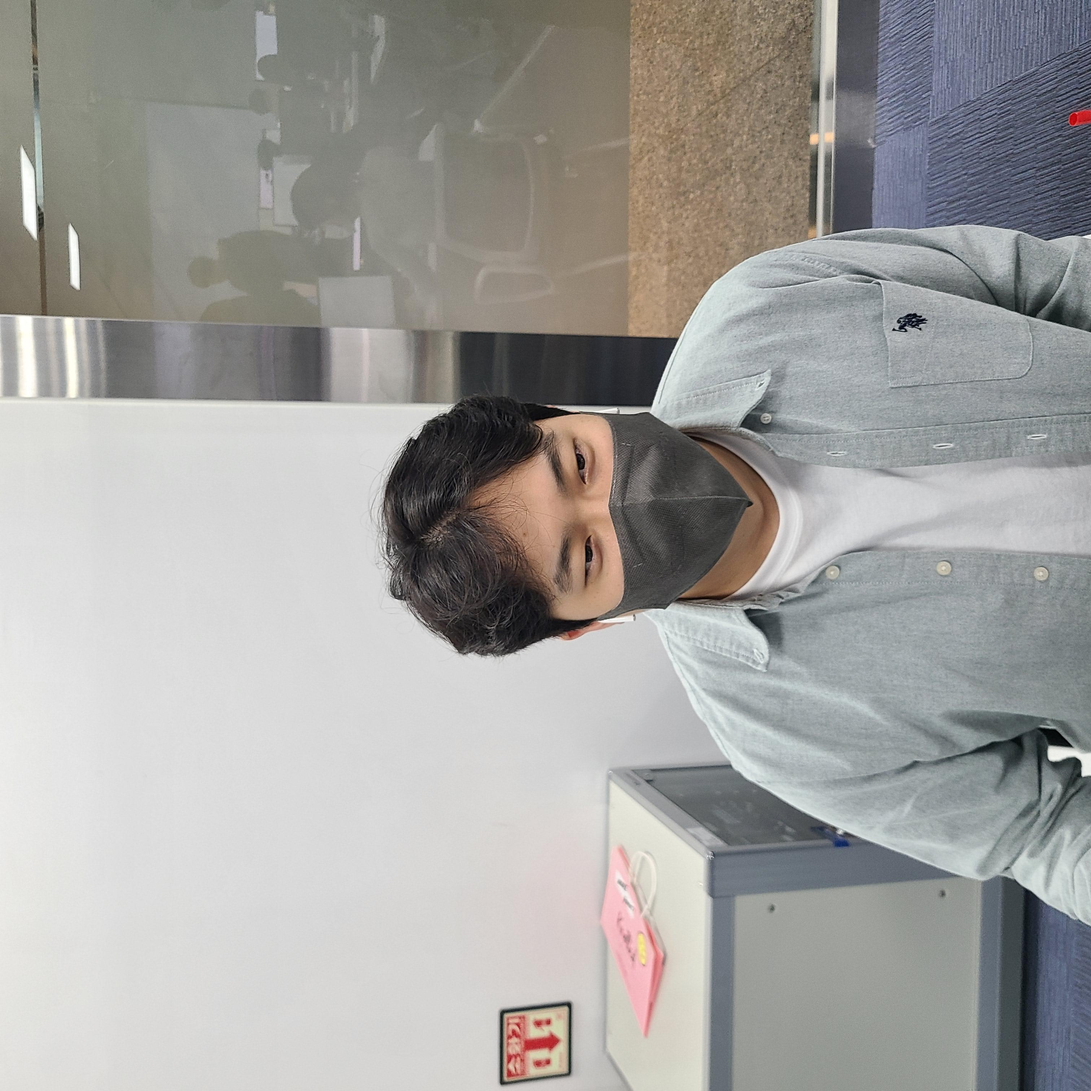earphone: (459, 587, 484, 639)
